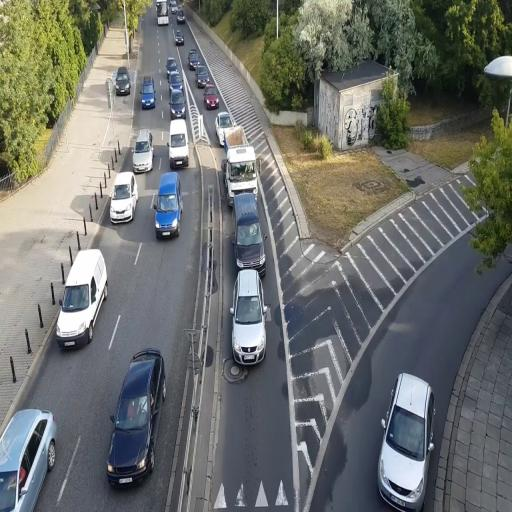vehicle: (106, 348, 166, 489), (377, 371, 435, 511), (0, 406, 58, 511), (55, 248, 108, 349), (226, 144, 267, 274), (231, 269, 267, 367), (230, 182, 266, 273), (152, 174, 182, 240), (225, 145, 258, 203), (110, 170, 138, 225), (168, 119, 190, 170), (132, 130, 154, 172), (215, 109, 237, 147), (166, 57, 184, 97), (140, 77, 156, 109), (114, 67, 131, 95), (204, 86, 219, 110), (196, 68, 210, 86)
